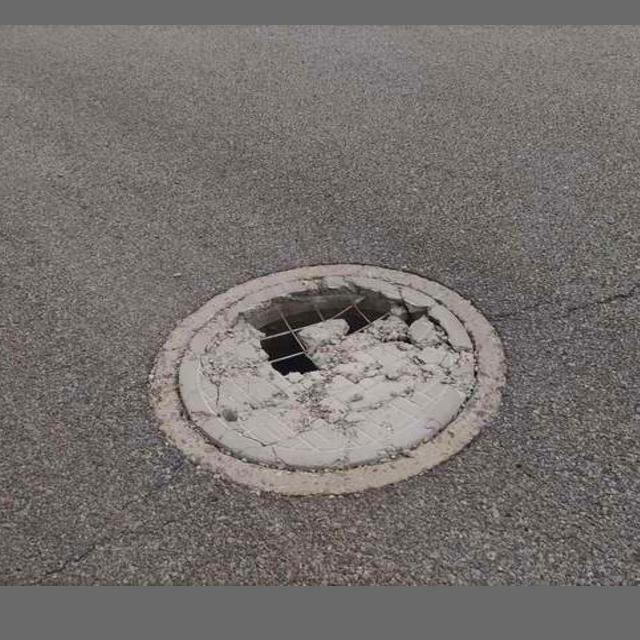broke: (138, 253, 515, 505)
